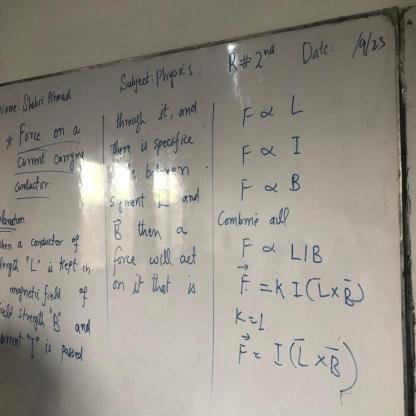Handwritten text: (109, 87, 204, 135), (104, 121, 201, 165), (105, 175, 202, 217), (111, 55, 202, 97), (104, 238, 205, 274), (109, 271, 199, 309), (109, 213, 194, 246), (16, 305, 96, 336), (216, 200, 291, 229), (4, 280, 90, 304), (18, 82, 79, 115), (26, 252, 94, 280), (14, 148, 88, 173), (14, 227, 84, 253), (17, 120, 89, 142), (42, 336, 90, 366), (283, 240, 332, 264), (9, 172, 54, 195), (301, 33, 330, 67), (280, 90, 309, 118), (236, 96, 261, 128), (236, 174, 260, 203), (286, 166, 306, 195), (236, 233, 258, 257), (225, 47, 240, 81), (287, 133, 305, 158), (240, 138, 255, 165)
Whiteboard: (0, 8, 409, 416)
